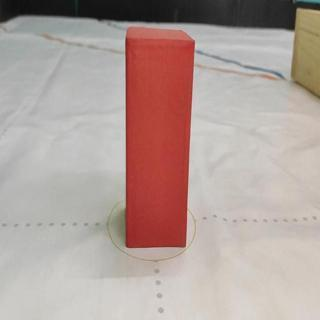redbox: (124, 26, 194, 250)
